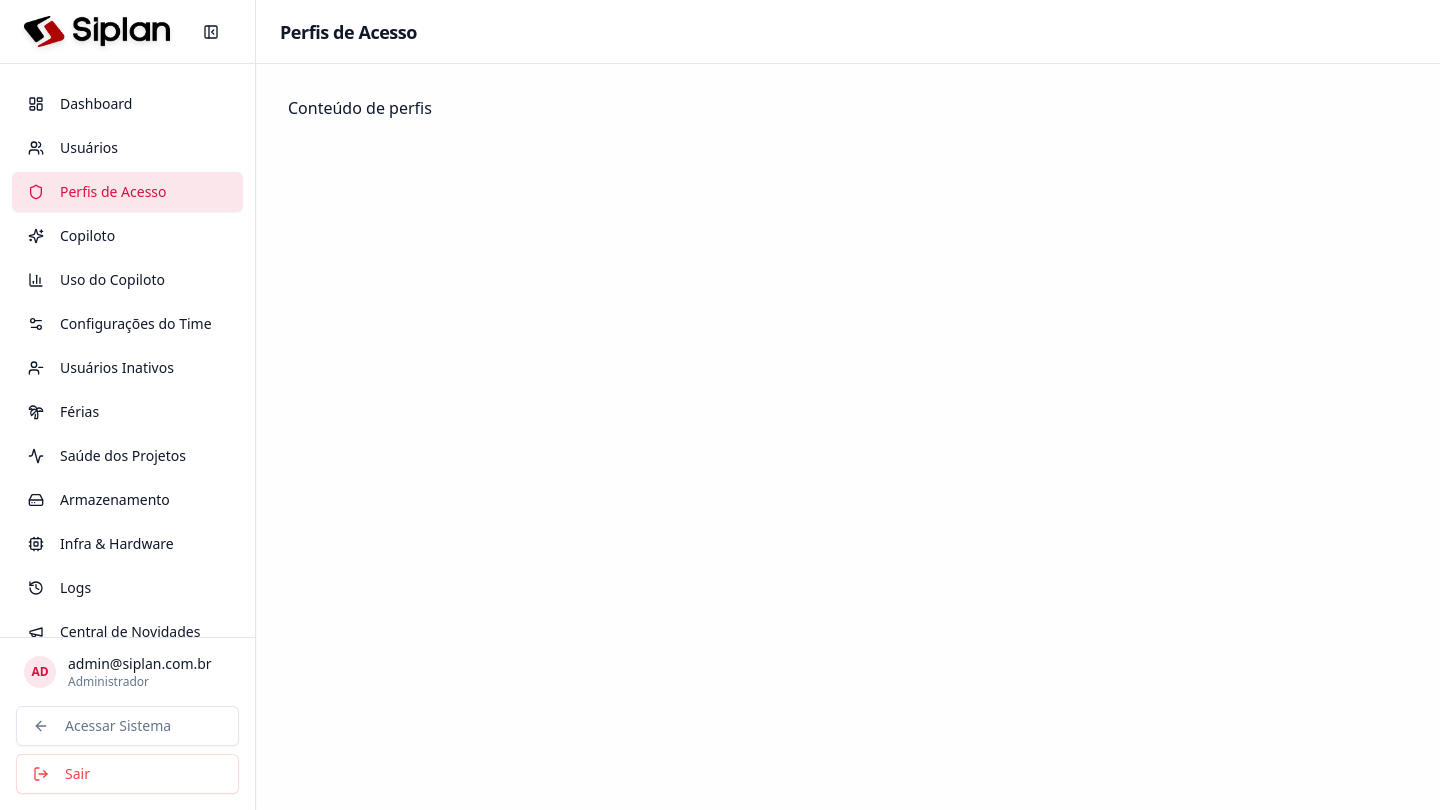
menu lateral do painel administrativo › recolhe no desktop e salva a preferência
Click the button named "Recolher menu lateral" at {"x": 211, "y": 32}, box x1=191 y1=12 x2=231 y2=52
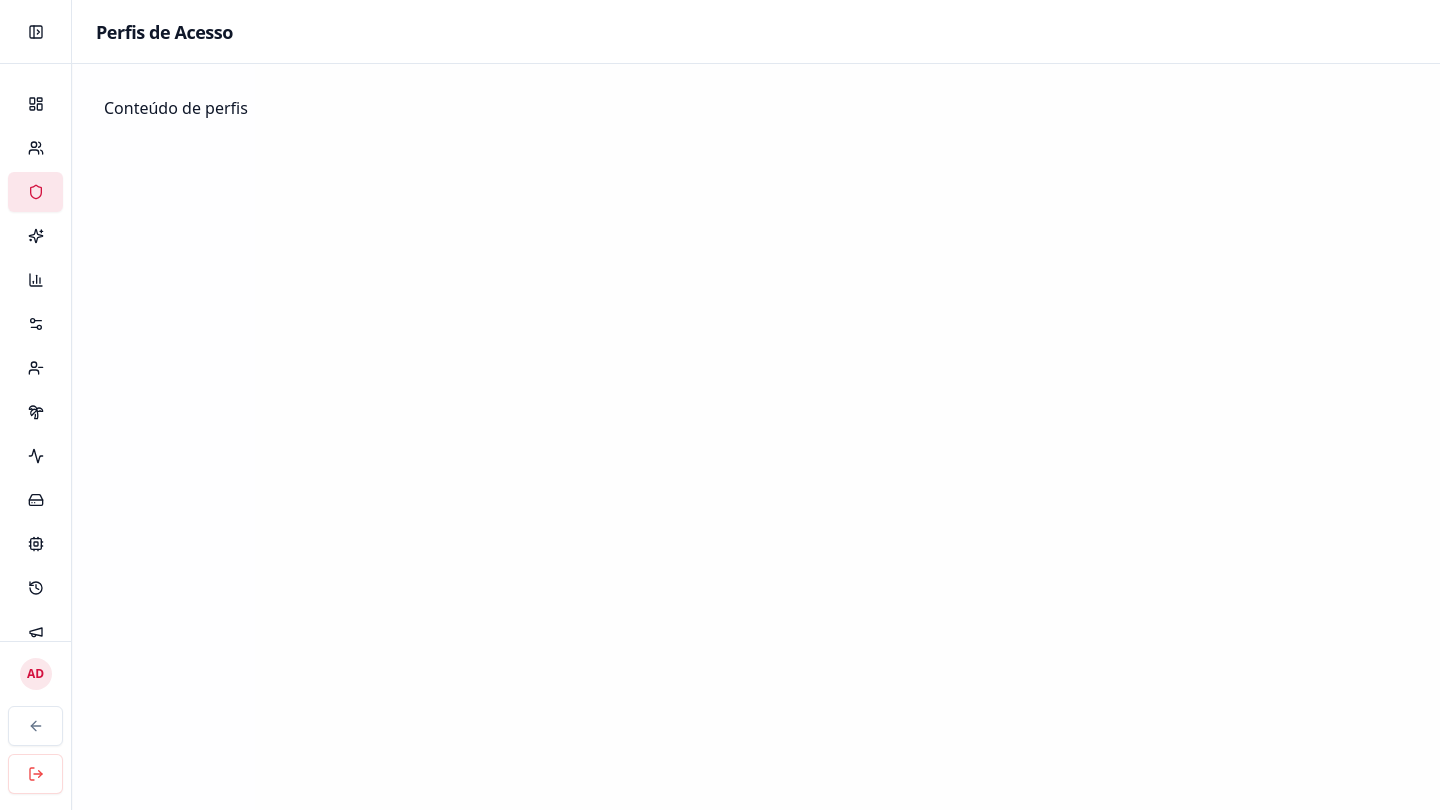
Now the button named "Expandir menu lateral" is shown, box x1=16 y1=12 x2=56 y2=52
